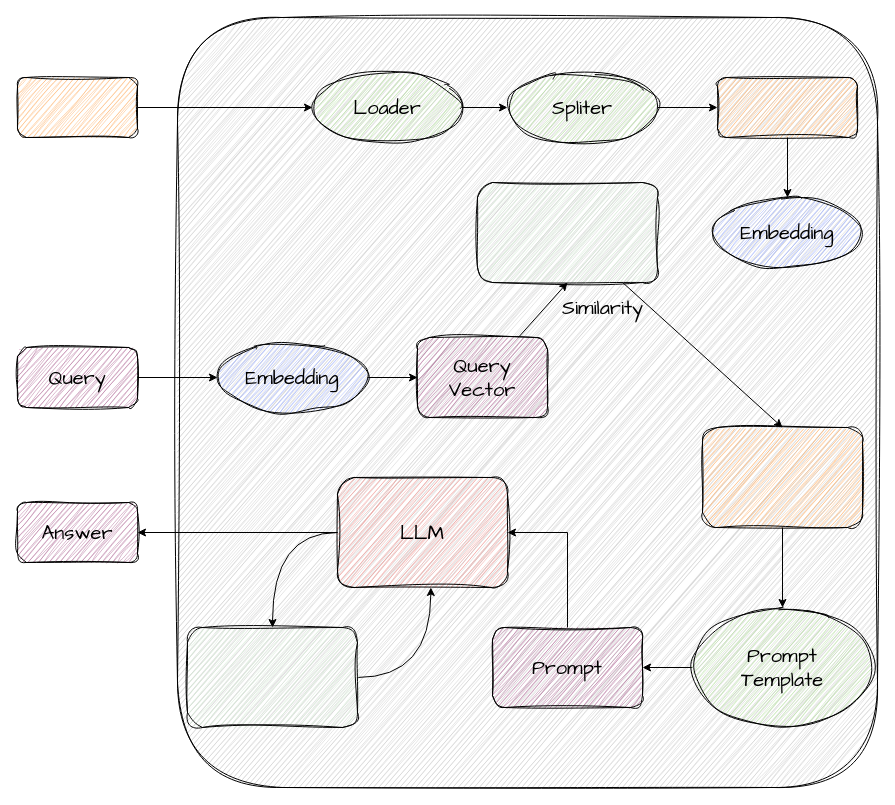
This 895x805 diagram has some shape labels left out. Each missing label, with the box of its shape:
Docs: (16, 76, 138, 138)
Memory: (186, 626, 358, 728)
Related Text Chunk: (702, 426, 862, 528)
Text Chunks: (716, 76, 858, 138)
VectorStore: (476, 182, 658, 282)
